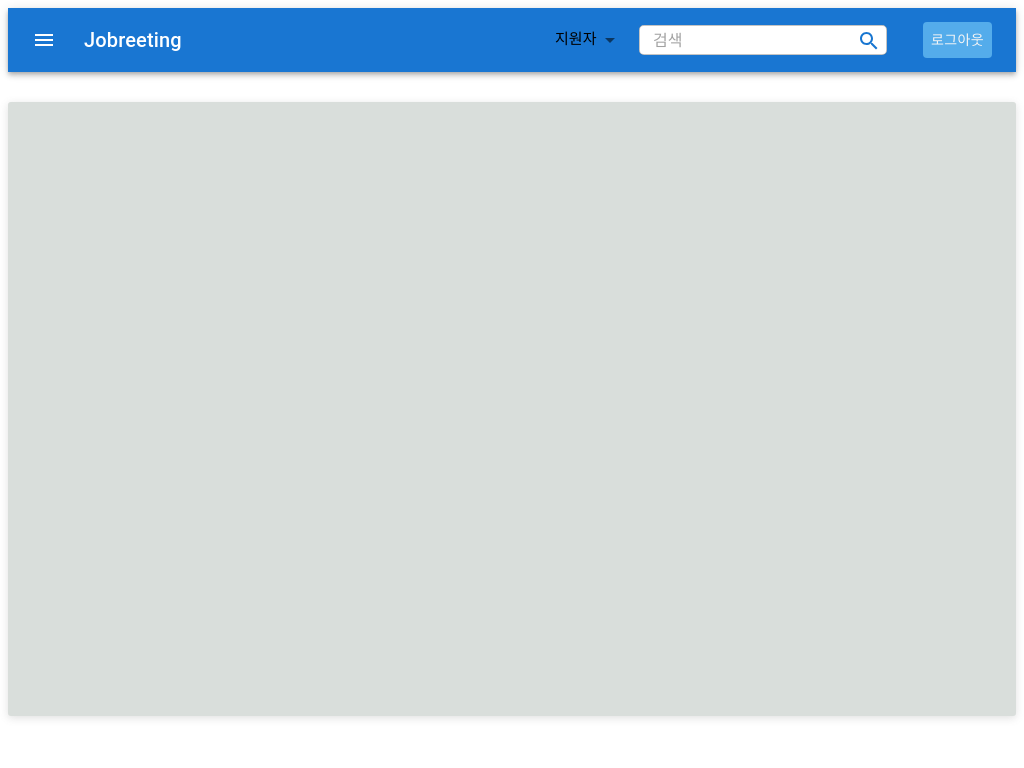
Test: 로그인 & 라우팅 테스트 › 로그아웃 라우팅 테스트
Click the button "로그아웃" at (957, 40), box [923,22,992,58]
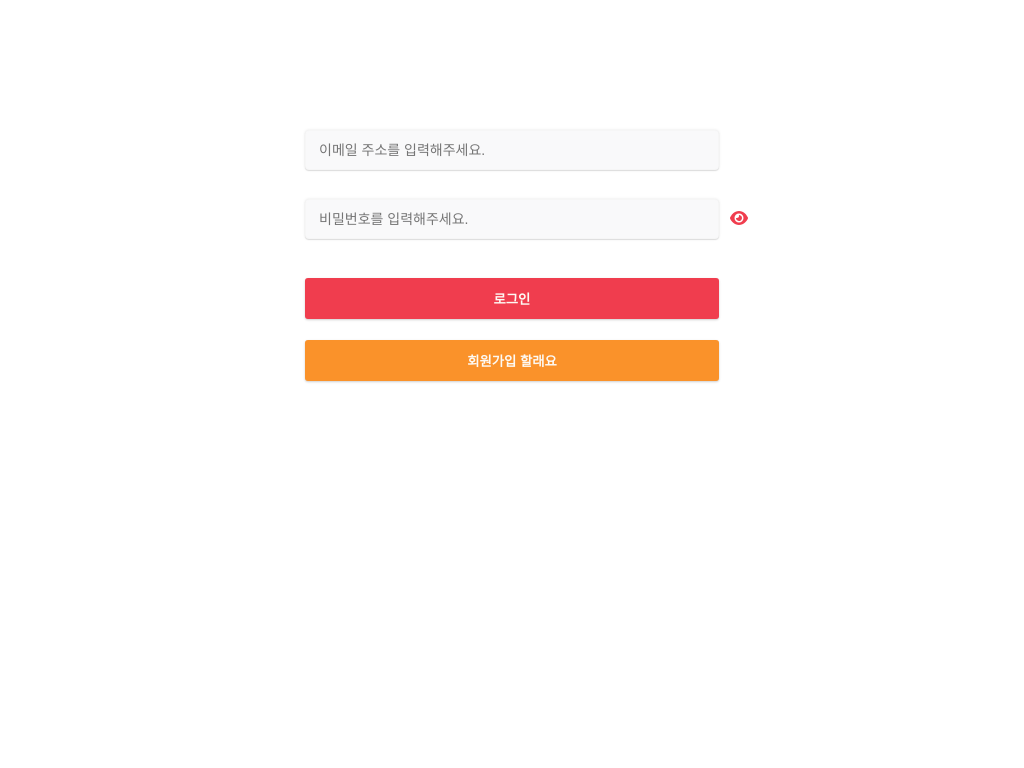
Expected: the button "로그인" is shown, [305,278,719,319]
